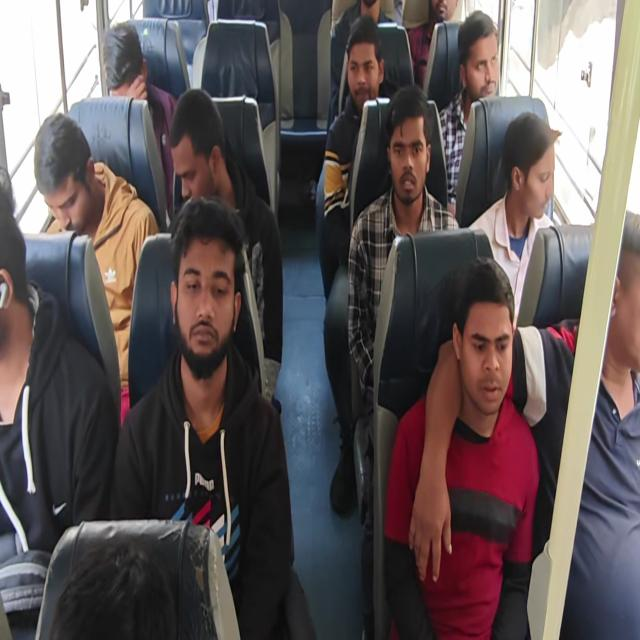person: (34, 544, 228, 640), (168, 194, 250, 389), (450, 254, 518, 422), (160, 74, 239, 215), (24, 94, 96, 248), (494, 104, 563, 237), (0, 158, 41, 372), (602, 201, 640, 395), (387, 76, 430, 220), (98, 13, 153, 124), (458, 6, 501, 107), (340, 21, 388, 106), (426, 0, 462, 30), (356, 0, 384, 21)
